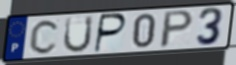0: (131, 12, 159, 49)
3: (195, 6, 226, 48)
C: (28, 18, 62, 55)
P: (158, 9, 196, 50), (93, 12, 129, 54)
U: (61, 14, 95, 54)
